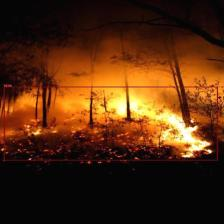fire: (4, 86, 218, 160)
